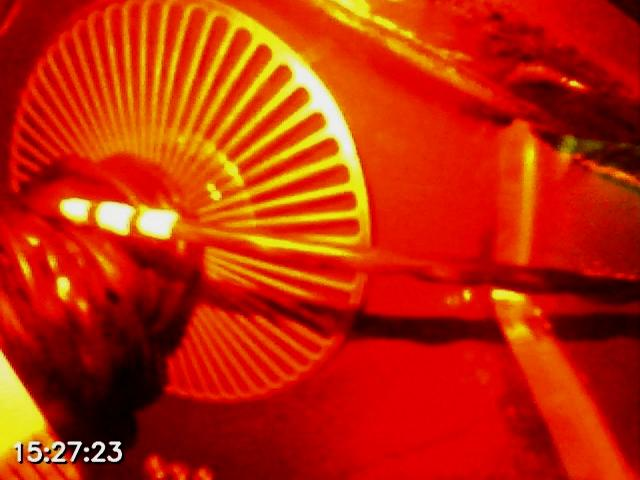white-dots: (58, 198, 180, 240)
